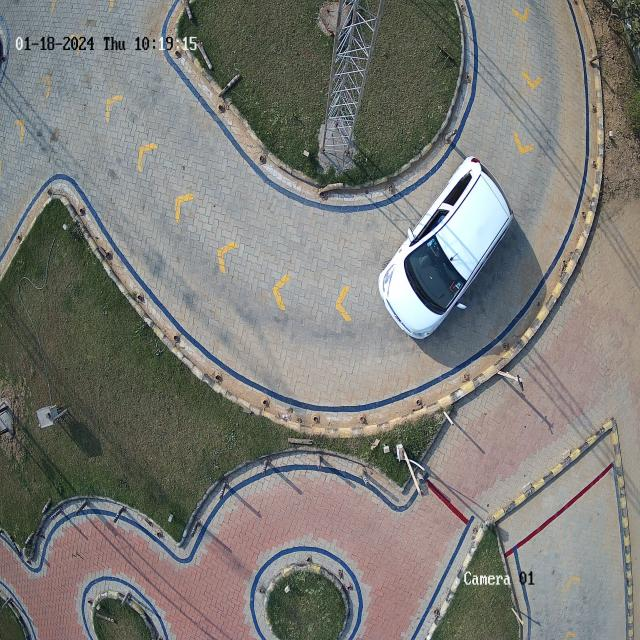car: (378, 159, 514, 342)
